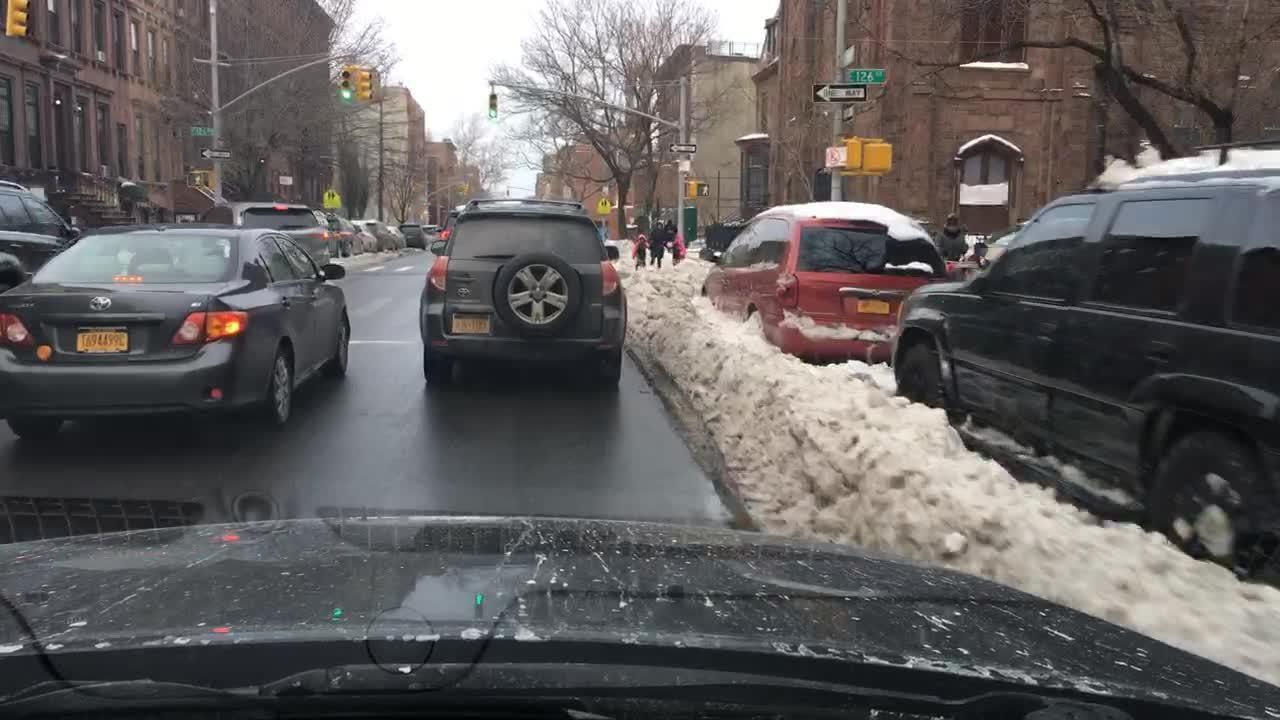Toyota: (87, 291, 112, 317), (455, 286, 474, 301)
